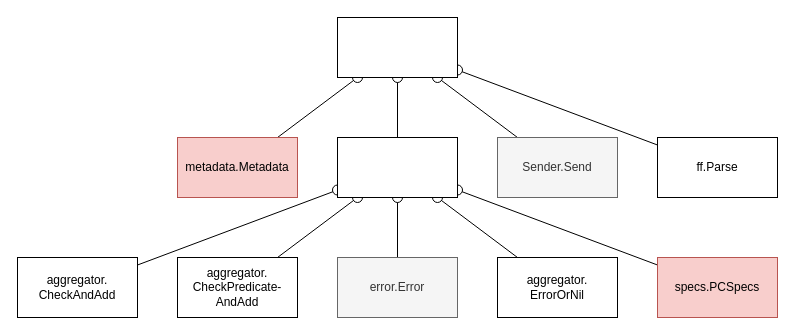
Image size: 795x335. Some labels were removed from this diagram. Here are the shapes that lost their labels. From the top down, the centre of each, then its label:
At pixel 397 47: "main".
At pixel 397 167: "specs.Fetch".
